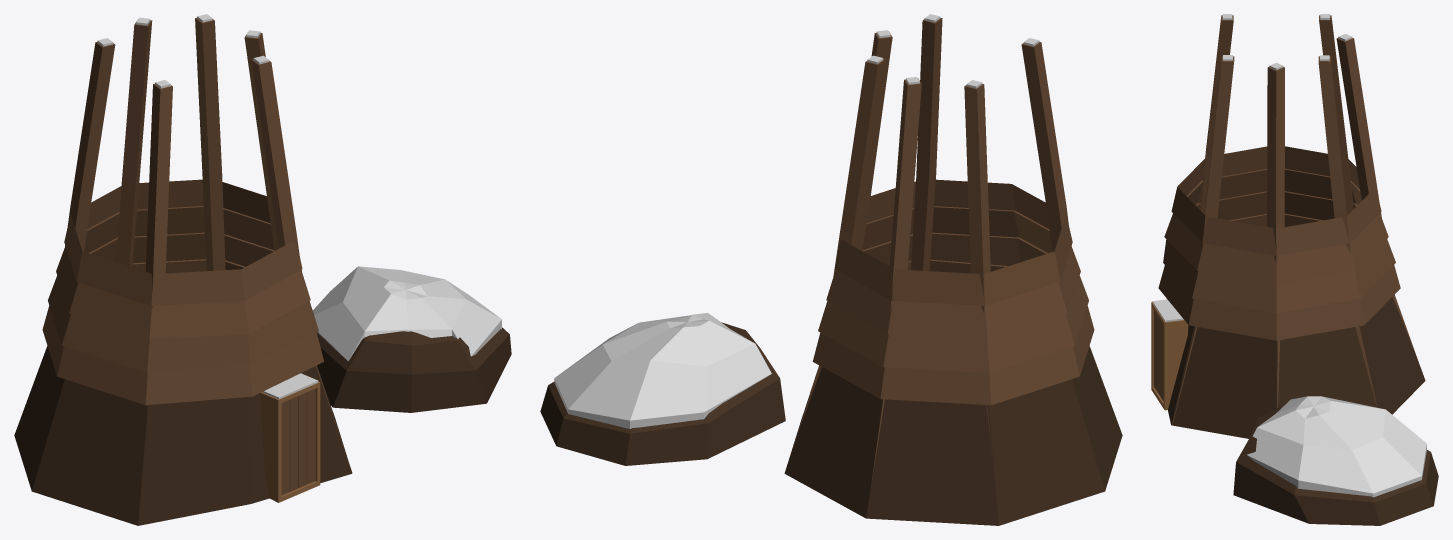
The model's file is windmill_1_build_snow_mat.fbx.
The picture shows the model from 3 angles, left to right: view 1: azimuth 30°, elevation 25°; view 2: azimuth 150°, elevation 25°; view 3: azimuth 270°, elevation 25°; orthographic projection. The views are drawn at different scales.
Visible parts, largest first — view 1: windmill_1_build_snow_mat; view 2: windmill_1_build_snow_mat; view 3: windmill_1_build_snow_mat.
Boxes of the visible parts, x1=… form: windmill_1_build_snow_mat: x1=14, y1=14, x2=511, y2=525; windmill_1_build_snow_mat: x1=540, y1=14, x2=1122, y2=525; windmill_1_build_snow_mat: x1=1151, y1=14, x2=1438, y2=525.
Size of the model in its own units: 551 by 423 by 320.
